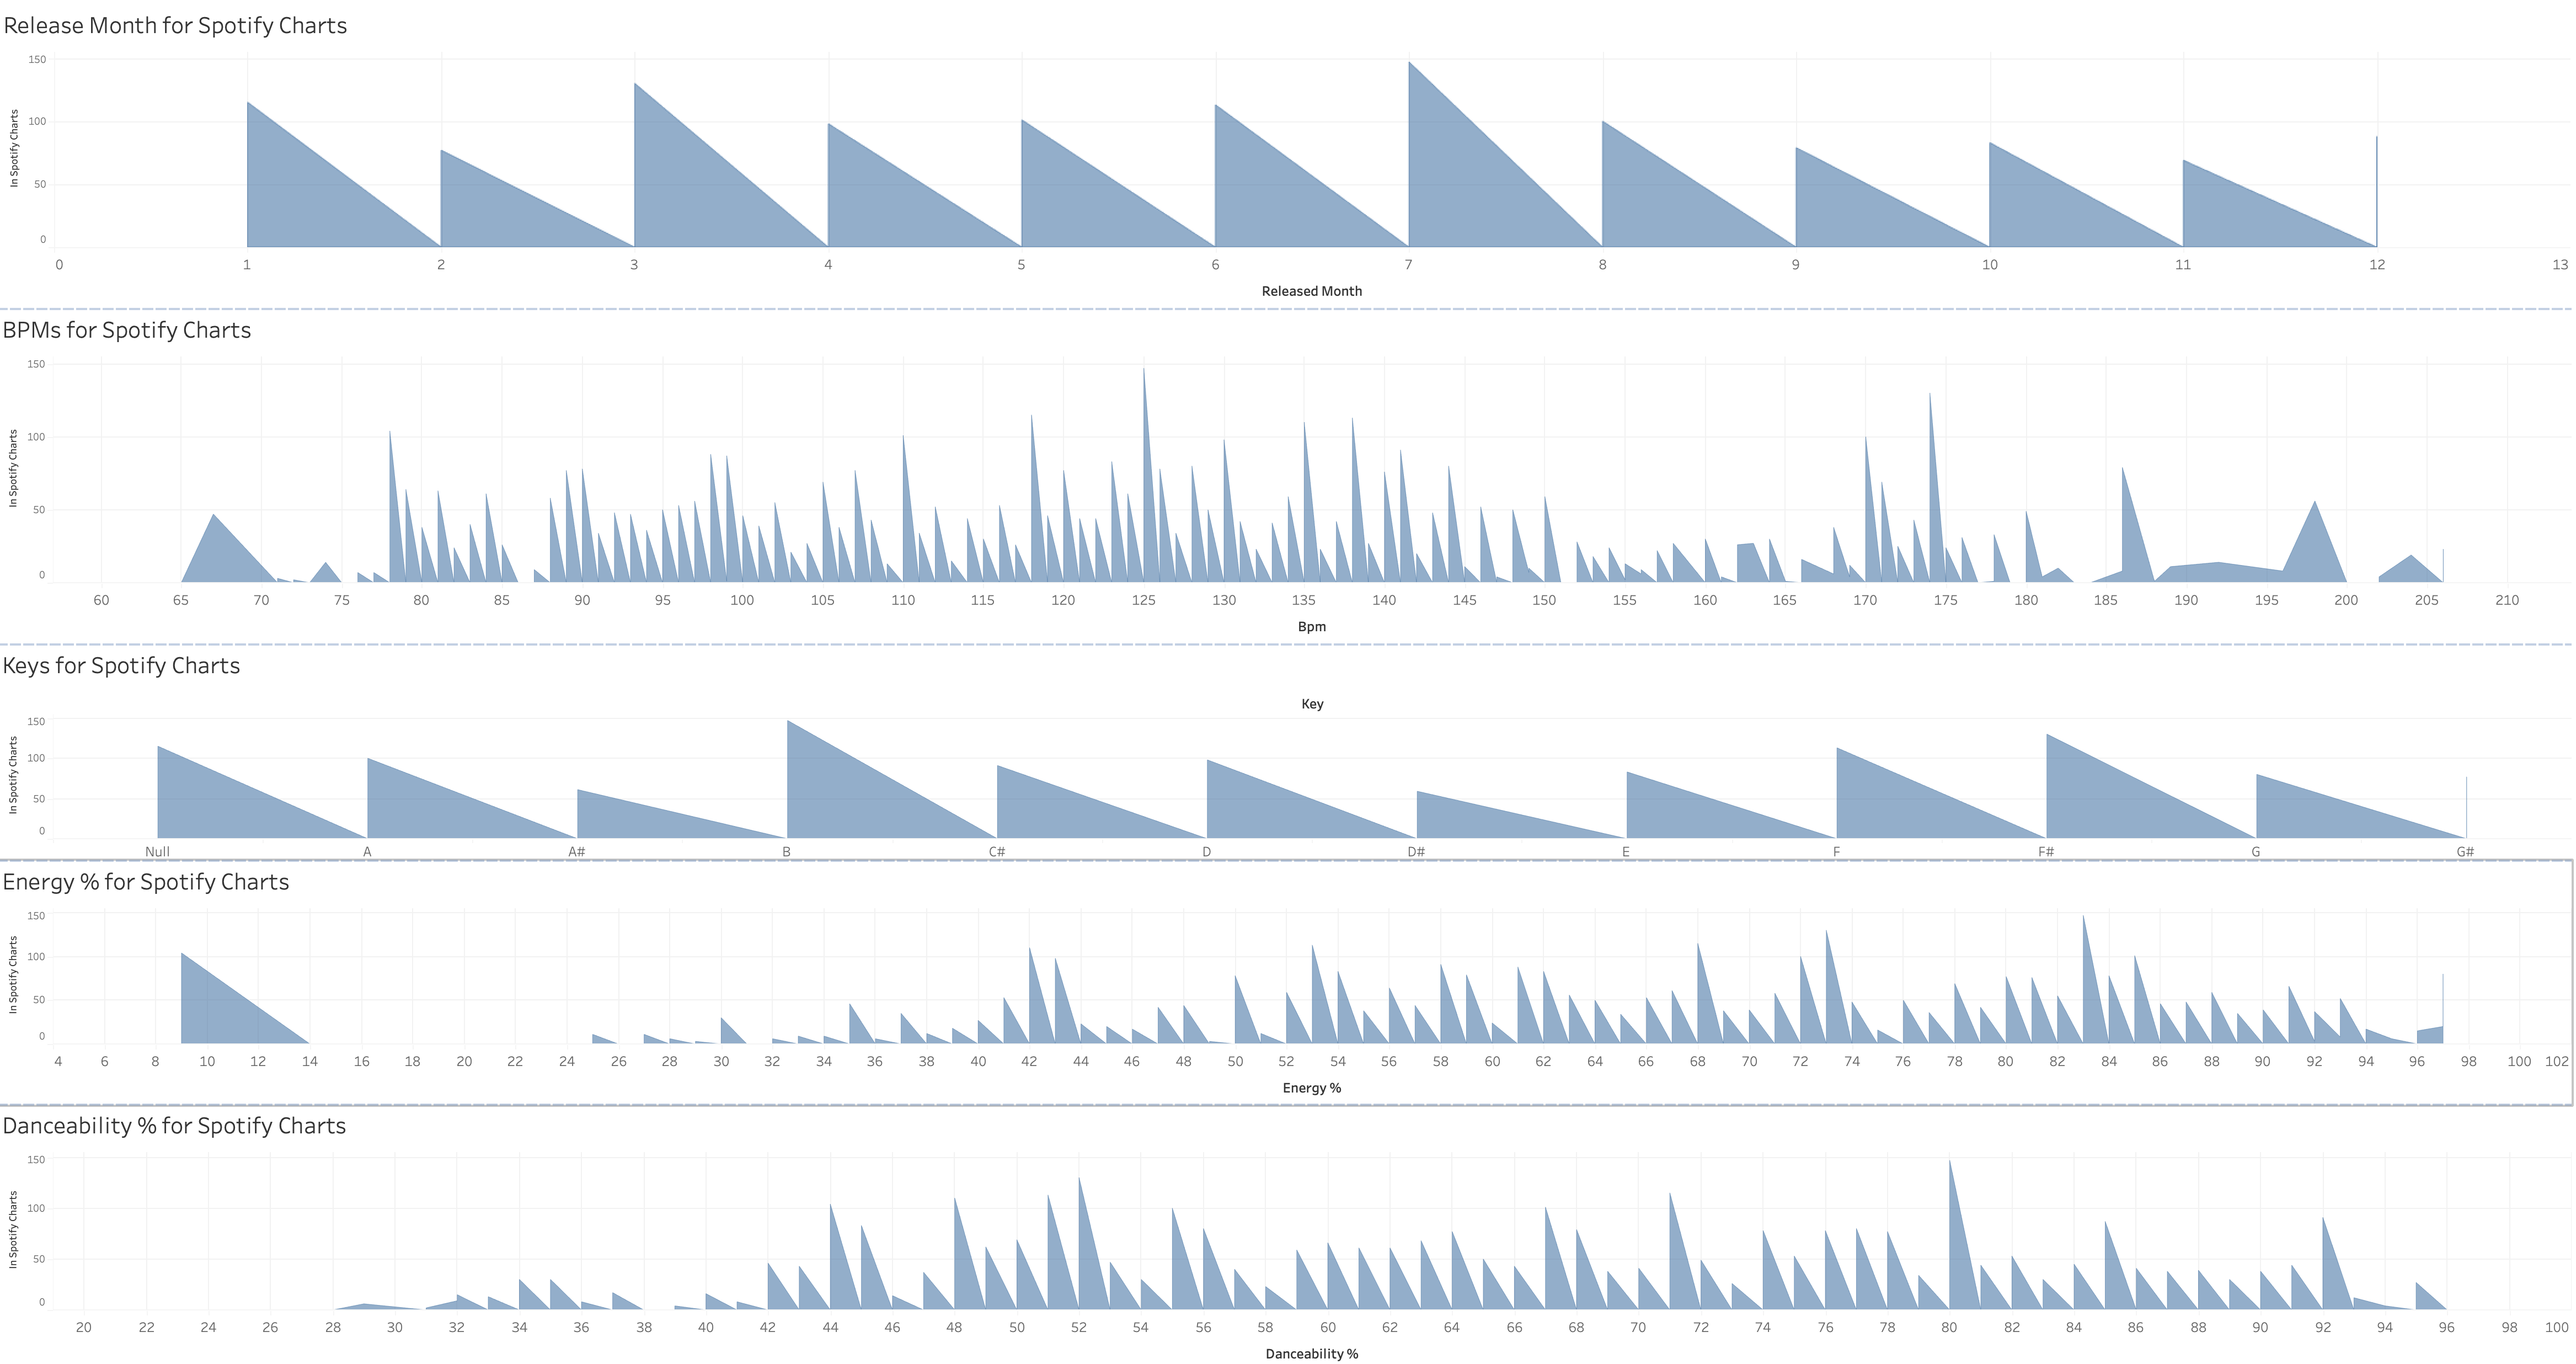

The page's visual inventory and layout, read from the dashboard file:
{"tool":"tableau","page":{"name":"Stats for Spotify Charts","canvas":[1000,1000],"units":"permille","ordinal":1},"visuals":[{"type":"worksheet","title":"Release Month for Spotify Charts","mark":"Area","rows":["in_spotify_charts"],"cols":["released_month"],"box":[3.4,6.4,993.2,221]},{"type":"worksheet","title":"BPMs for Spotify Charts","mark":"Area","rows":["in_spotify_charts"],"cols":["bpm"],"box":[3.4,227.4,993.2,241.7]},{"type":"worksheet","title":"Keys for Spotify Charts","mark":"Area","rows":["in_spotify_charts"],"cols":["key"],"box":[3.4,469,993.2,156.7]},{"type":"worksheet","title":"Energy % for Spotify Charts","mark":"Area","rows":["in_spotify_charts"],"cols":["energy_%"],"box":[3.4,625.7,993.2,176.1]},{"type":"worksheet","title":"Danceability % for Spotify Charts","mark":"Area","rows":["in_spotify_charts"],"cols":["danceability_%"],"box":[3.4,801.7,993.2,191.9]}]}

Visuals, with their boxes on the dashboard's canvas, which has no fixed pixel size, in thousandths of its width and height (x1, y1, x2, y2). These are canvas units, not pixel positions in the 2576x1364 screenshot, which may show the page scaled, cropped or inside an application window:
"Release Month for Spotify Charts" worksheet (Area marks): l=3, t=6, r=997, b=227
"BPMs for Spotify Charts" worksheet (Area marks): l=3, t=227, r=997, b=469
"Keys for Spotify Charts" worksheet (Area marks): l=3, t=469, r=997, b=626
"Energy % for Spotify Charts" worksheet (Area marks): l=3, t=626, r=997, b=802
"Danceability % for Spotify Charts" worksheet (Area marks): l=3, t=802, r=997, b=994
